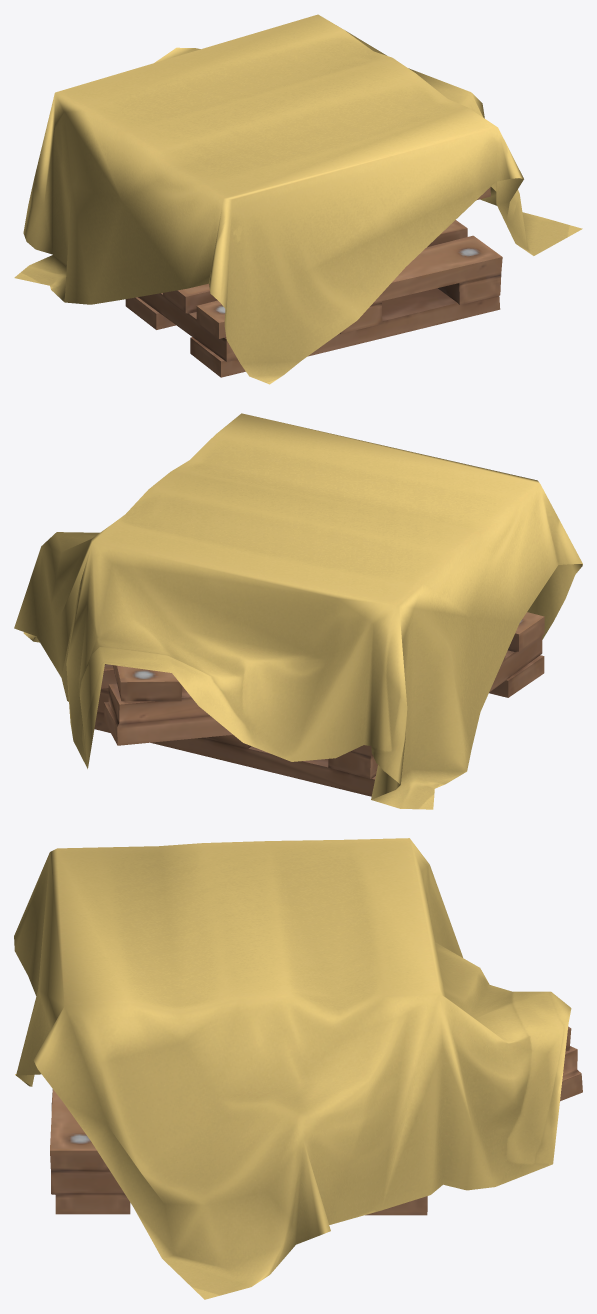
File: Pfb_Box_GRP__8.fbx
The picture shows the model from 3 angles, top to bottom: view 1: azimuth 30°, elevation 25°; view 2: azimuth 150°, elevation 25°; view 3: azimuth 270°, elevation 25°; orthographic projection. The views are drawn at different scales.
Visible parts, largest first — view 1: MAT_Canvas_02_Yellow, Mat_WoodPallet_01_01; view 2: MAT_Canvas_02_Yellow, Mat_WoodPallet_01_01; view 3: MAT_Canvas_02_Yellow, Mat_WoodPallet_01_01.
Part boxes in pixels (x1=…): MAT_Canvas_02_Yellow: x1=14, y1=14, x2=582, y2=384; Mat_WoodPallet_01_01: x1=125, y1=187, x2=502, y2=377; MAT_Canvas_02_Yellow: x1=14, y1=413, x2=582, y2=809; Mat_WoodPallet_01_01: x1=94, y1=612, x2=544, y2=796; MAT_Canvas_02_Yellow: x1=14, y1=838, x2=571, y2=1299; Mat_WoodPallet_01_01: x1=50, y1=1026, x2=582, y2=1215.
Bounding box in the file's own units: 3.12 × 1.14 × 2.75.
Materials: 2 (2 with a texture image).
